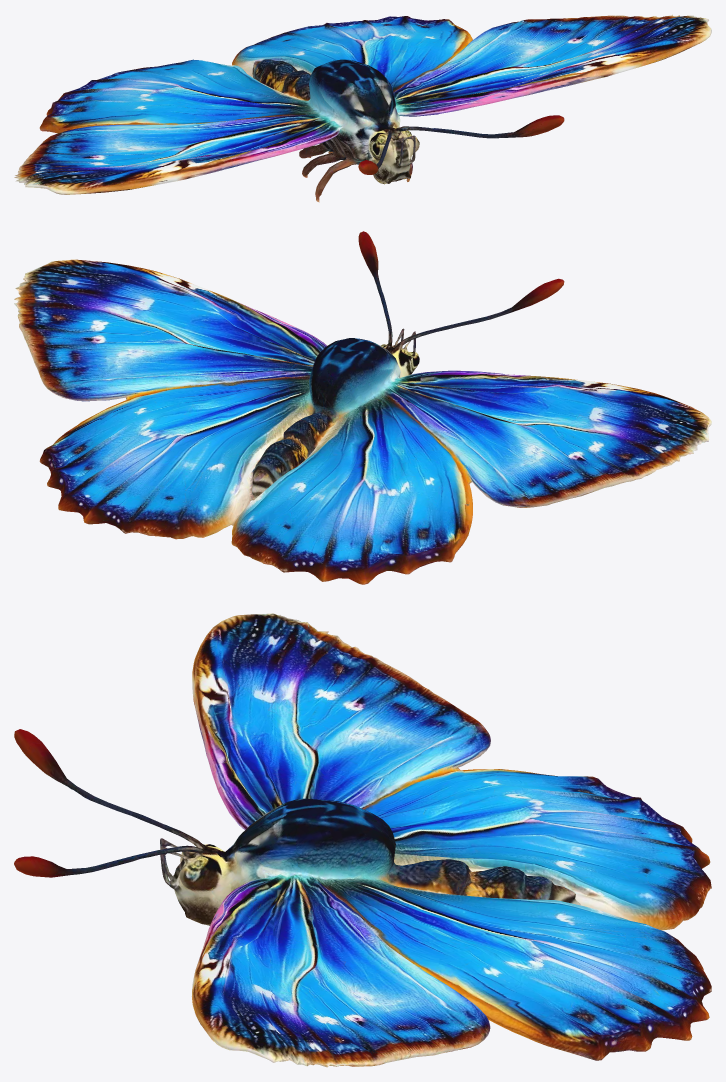
The model's file is animal-heideblauwtje-butterfly.glb.
The picture shows the model from 3 angles, top to bottom: view 1: azimuth 30°, elevation 25°; view 2: azimuth 150°, elevation 25°; view 3: azimuth 270°, elevation 25°; orthographic projection. The views are drawn at different scales.
Size of the model in its own units: 1.91 by 0.3311 by 1.26.
Materials: 1 (1 with a texture image).
